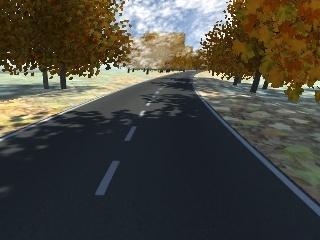Line slipt: (124, 98, 153, 143)
